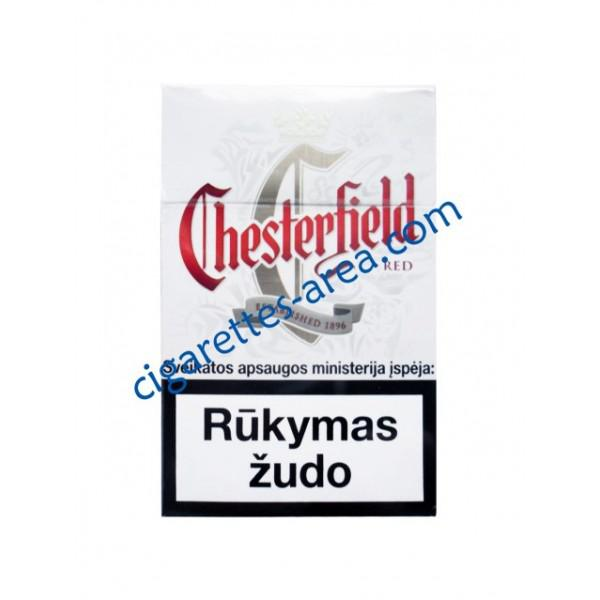chesterfield_red: (163, 91, 437, 519)
